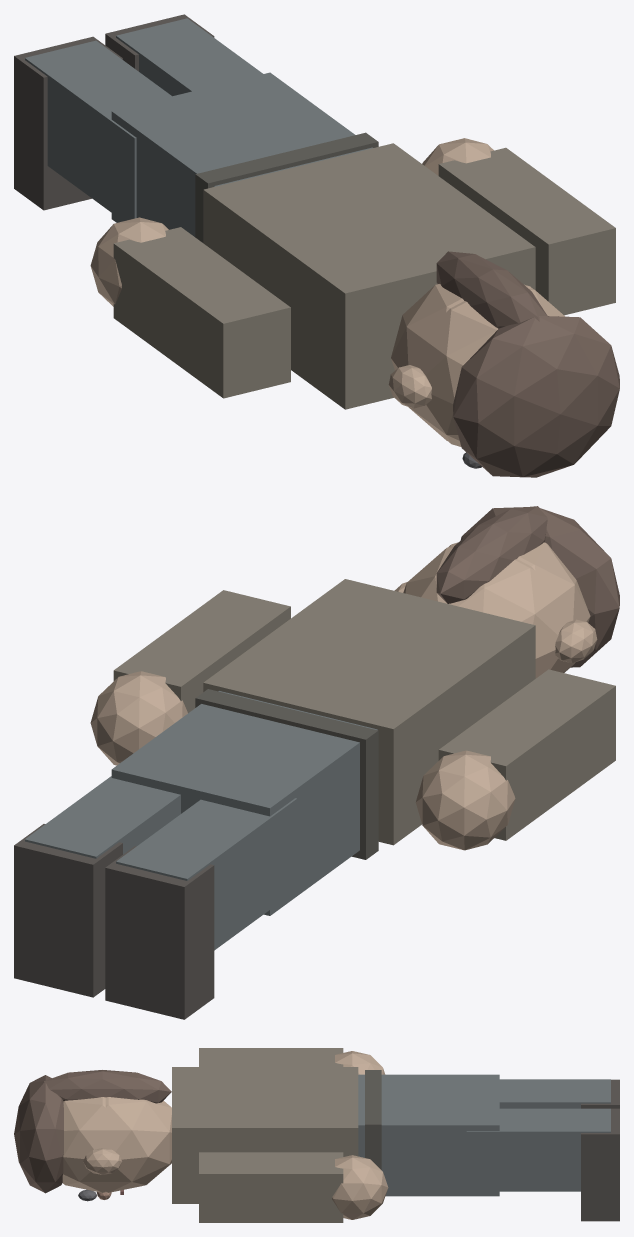
File: hair_male_ponytail.glb
The picture shows the model from 3 angles, top to bottom: view 1: azimuth 30°, elevation 25°; view 2: azimuth 150°, elevation 25°; view 3: azimuth 270°, elevation 25°; orthographic projection. The views are drawn at different scales.
Visible parts, largest first — view 1: part_00, part_19, part_06, part_01, part_12, part_04, part_10, part_02, part_05, part_20, part_03, part_18 (+4 smaller); view 2: part_00, part_01, part_06, part_05, part_04, part_11, part_12, part_07, part_10, part_20, part_13, part_03 (+4 smaller); view 3: part_00, part_01, part_12, part_10, part_03, part_19, part_02, part_11, part_04, part_20, part_06, part_13 (+4 smaller).
Part boxes in pixels (<box>): part_00: <box>203,143,535,409</box>; part_19: <box>453,316,619,477</box>; part_06: <box>113,227,290,398</box>; part_01: <box>111,72,372,236</box>; part_12: <box>438,147,615,315</box>; part_04: <box>25,40,171,221</box>; part_10: <box>116,18,262,96</box>; part_02: <box>411,288,564,446</box>; part_05: <box>14,36,122,210</box>; part_20: <box>436,251,547,328</box>; part_03: <box>391,284,532,440</box>; part_18: <box>195,132,378,242</box>; part_00: <box>203,579,535,845</box>; part_01: <box>111,691,377,915</box>; part_06: <box>438,669,615,840</box>; part_05: <box>105,846,214,1019</box>; part_04: <box>116,798,297,950</box>; part_11: <box>14,824,122,997</box>; part_12: <box>113,590,290,713</box>; part_07: <box>415,750,515,850</box>; part_10: <box>25,776,180,858</box>; part_20: <box>436,506,547,603</box>; part_13: <box>90,671,187,765</box>; part_03: <box>403,546,560,678</box>; part_00: <box>172,1067,358,1203</box>; part_01: <box>358,1074,499,1196</box>; part_12: <box>199,1152,343,1222</box>; part_10: <box>466,1108,610,1191</box>; part_03: <box>86,1097,171,1192</box>; part_19: <box>14,1075,63,1193</box>; part_02: <box>62,1097,125,1192</box>; part_11: <box>581,1108,619,1221</box>; part_04: <box>499,1079,610,1108</box>; part_20: <box>42,1070,171,1103</box>; part_06: <box>199,1048,343,1066</box>; part_13: <box>332,1155,388,1219</box>.
Bounding box in the file's own units: 1.03 × 0.47 × 2.02.
